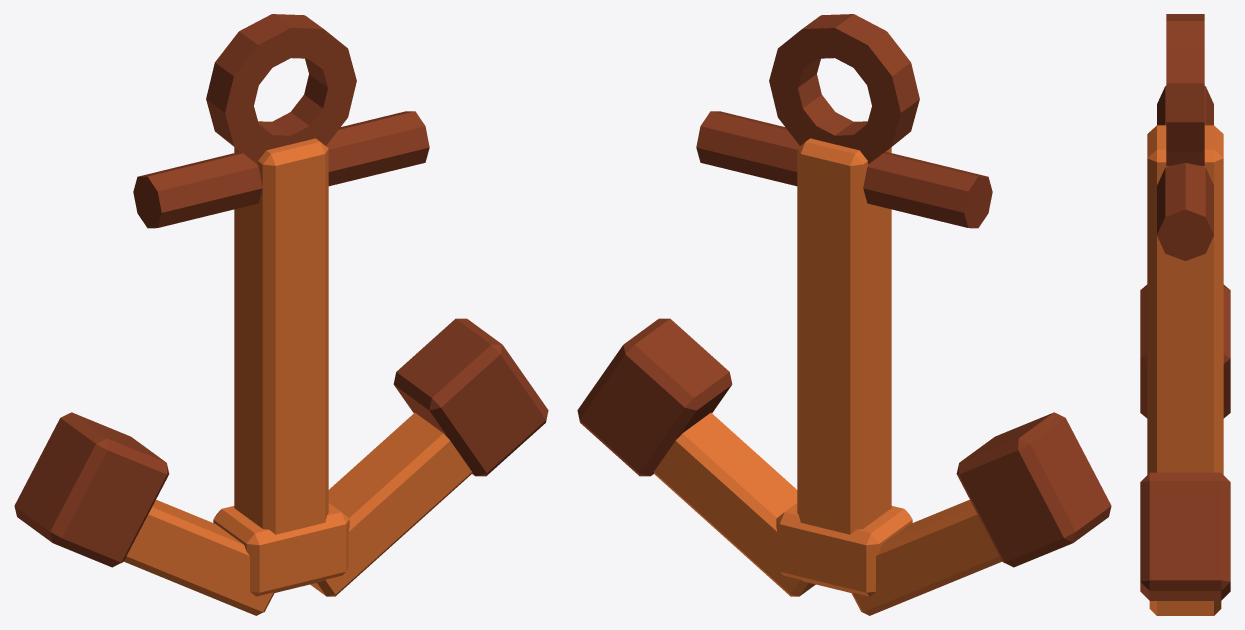
The model's file is item_anchor_rusty.fbx.
The picture shows the model from 3 angles, left to right: view 1: azimuth 30°, elevation 25°; view 2: azimuth 150°, elevation 25°; view 3: azimuth 270°, elevation 25°; orthographic projection.
Visible parts, largest first — view 1: item_anchor_rusty; view 2: item_anchor_rusty; view 3: item_anchor_rusty.
Boxes of the visible parts, bbox=[...] form: item_anchor_rusty: bbox=[14, 14, 548, 615]; item_anchor_rusty: bbox=[577, 14, 1111, 615]; item_anchor_rusty: bbox=[1140, 14, 1230, 615].
Bounding box in the file's own units: 2.42 × 2.67 × 0.38.
